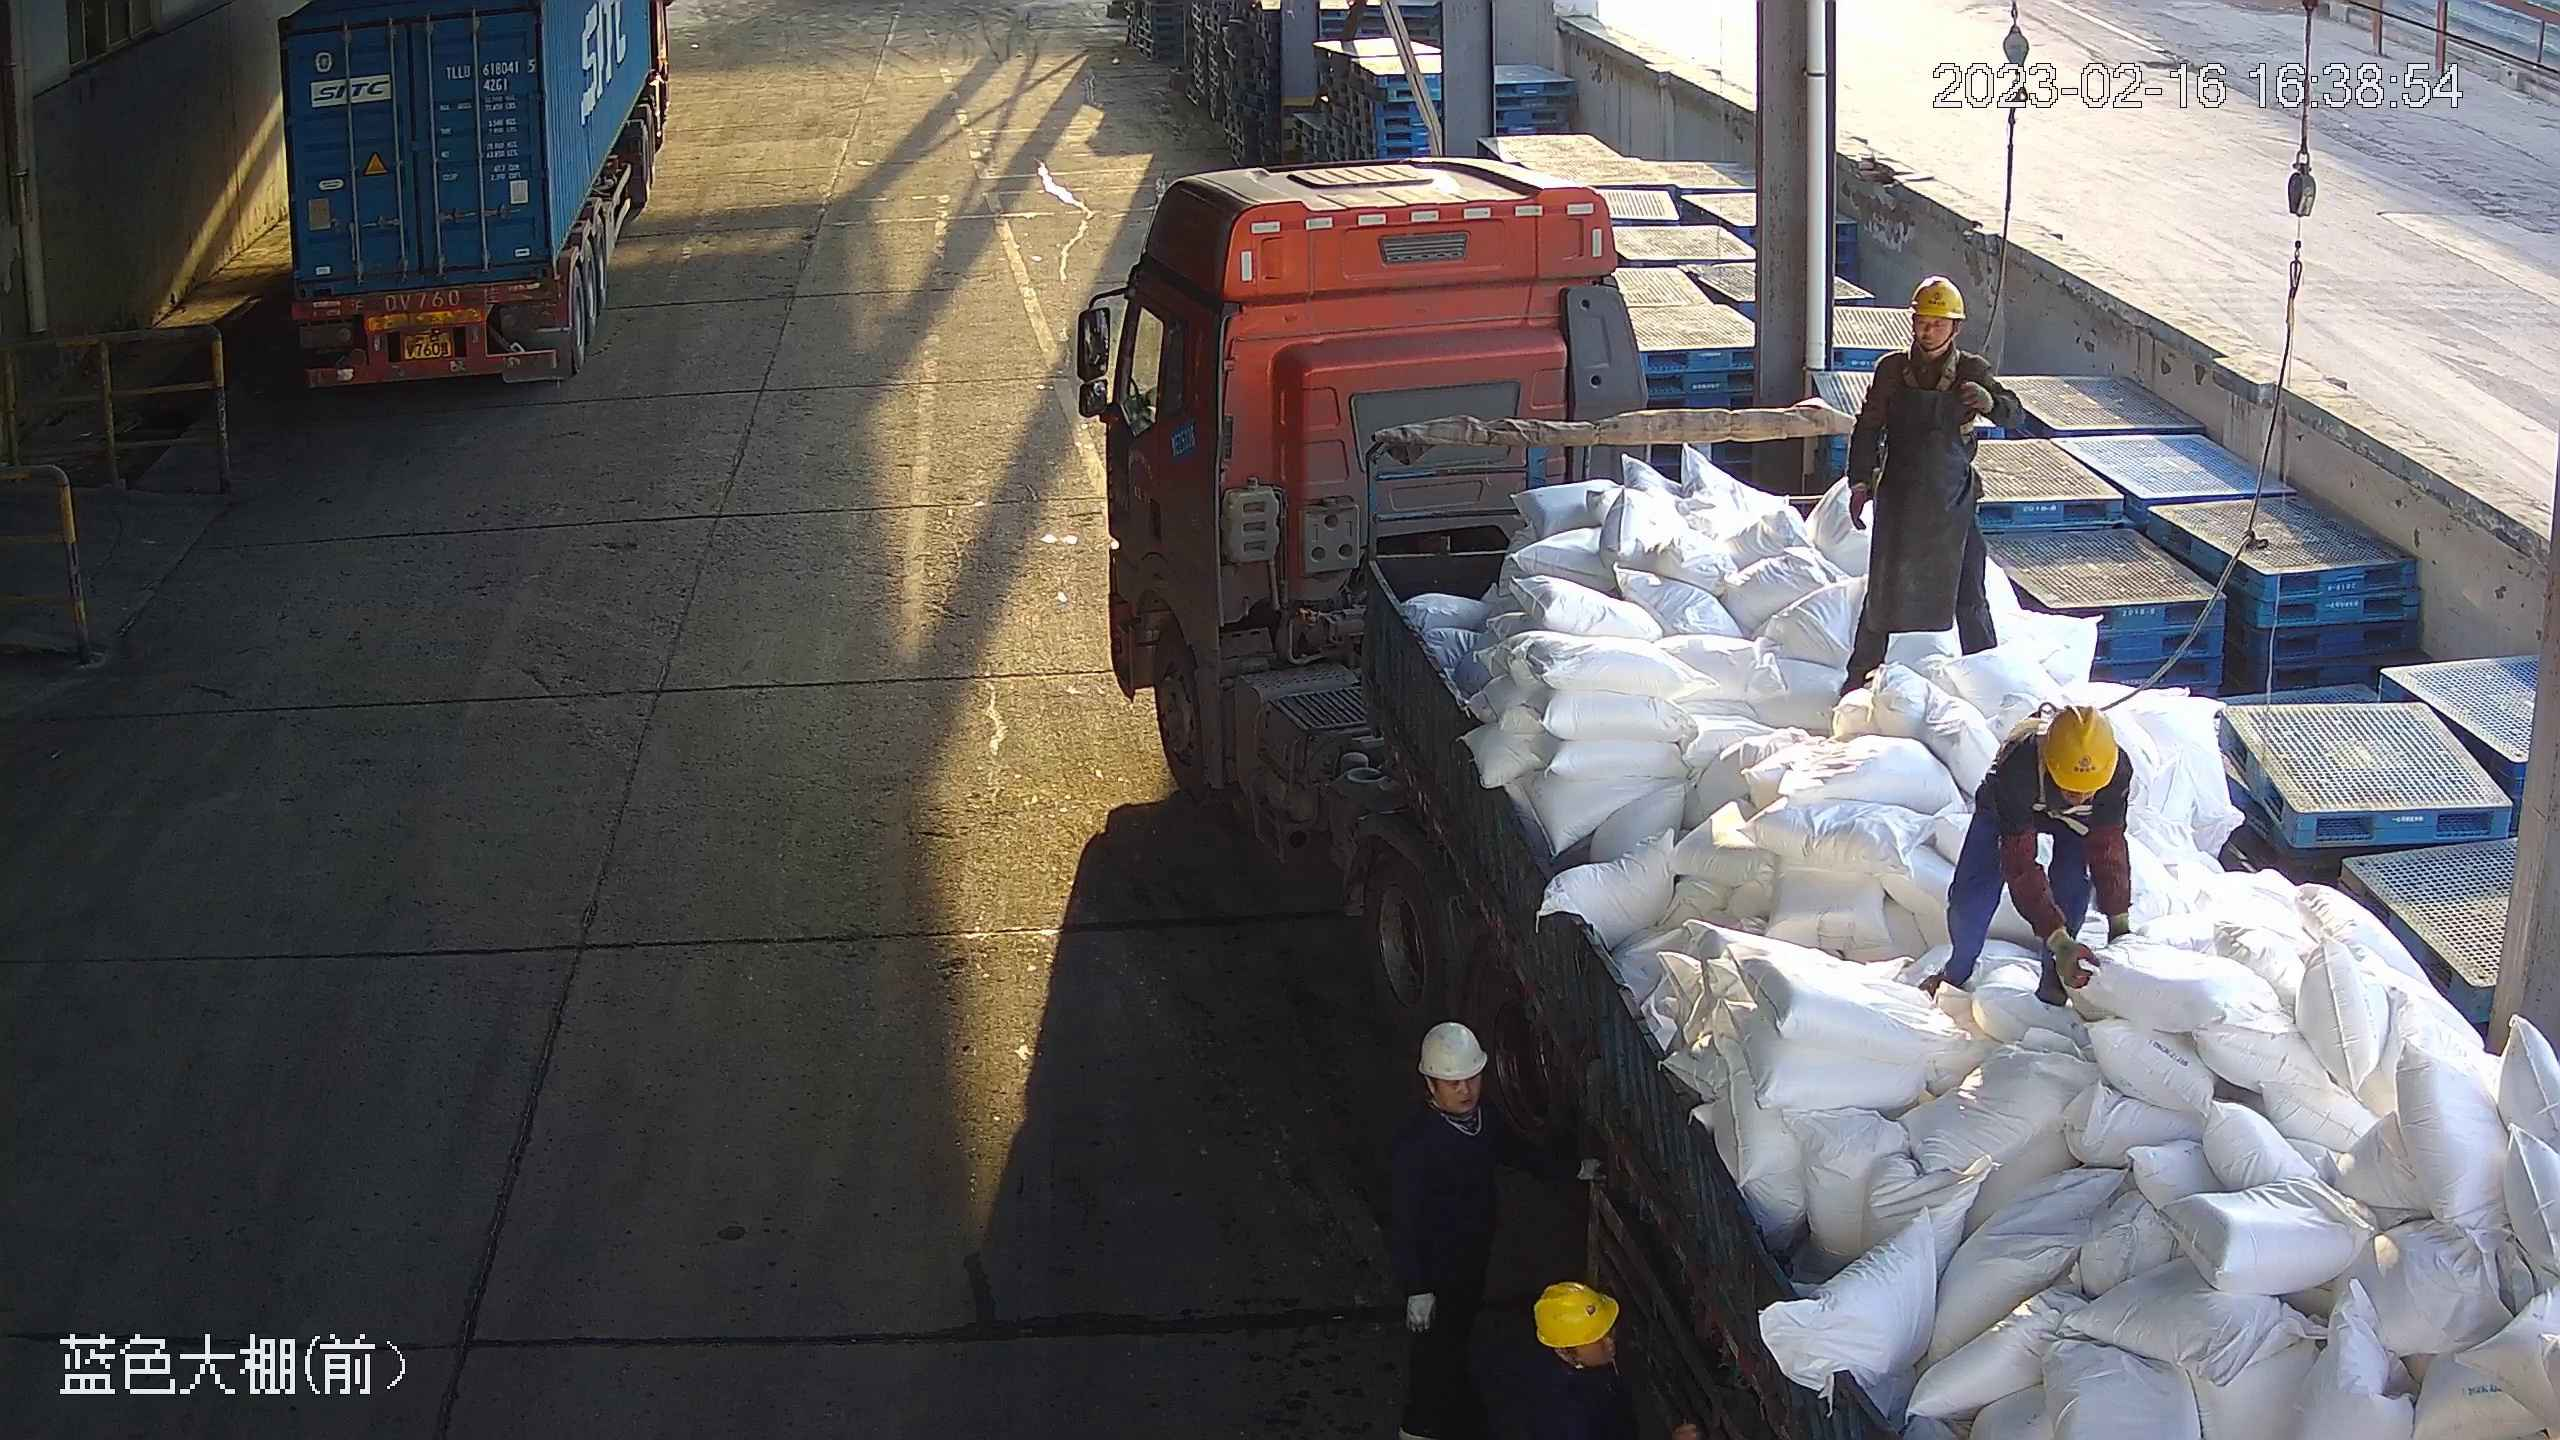belt: (2003, 712, 2105, 832), (1892, 342, 1964, 397)
head: (1979, 695, 2136, 842), (1857, 277, 2005, 421)
helmet: (2040, 707, 2125, 795), (1916, 273, 1975, 325)
people: (1831, 271, 2007, 694), (1951, 695, 2136, 1018)
truck: (1061, 158, 2560, 1440), (266, 14, 629, 405)
